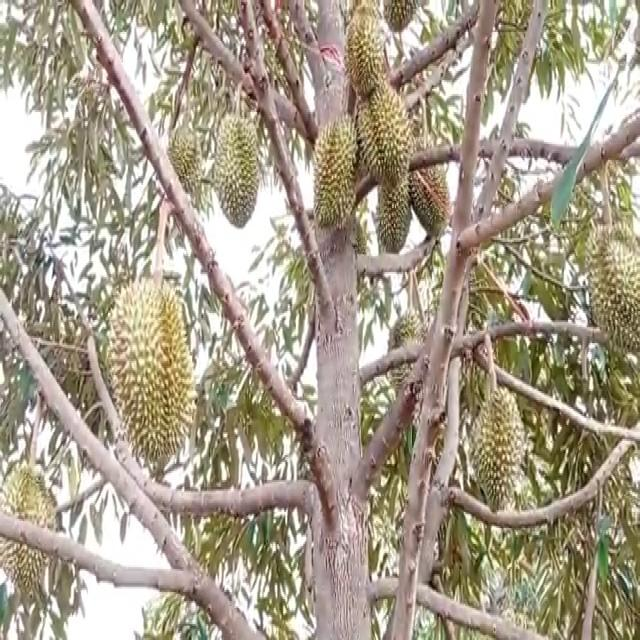durian: (101, 269, 200, 475), (0, 448, 62, 605), (466, 384, 529, 517), (585, 214, 639, 368), (355, 73, 414, 188), (310, 107, 361, 232), (210, 110, 260, 237), (401, 143, 455, 245), (371, 146, 415, 259), (384, 304, 432, 401), (342, 2, 388, 97), (166, 119, 208, 204)
